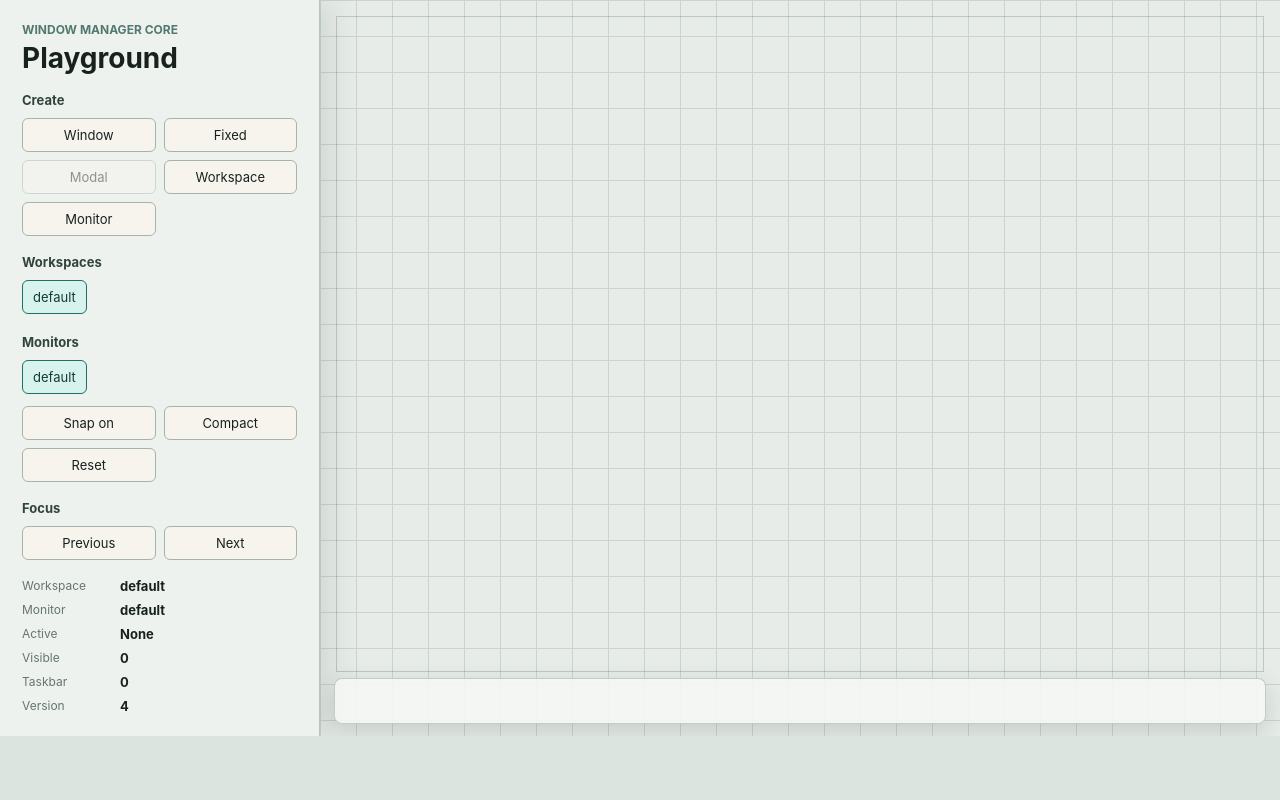
Test case: playground interactions › creates a window from the toolbar and reflects it in the taskbar
Click the button with aria-label "Create a new window" at (89, 135), box [22,118,156,152]
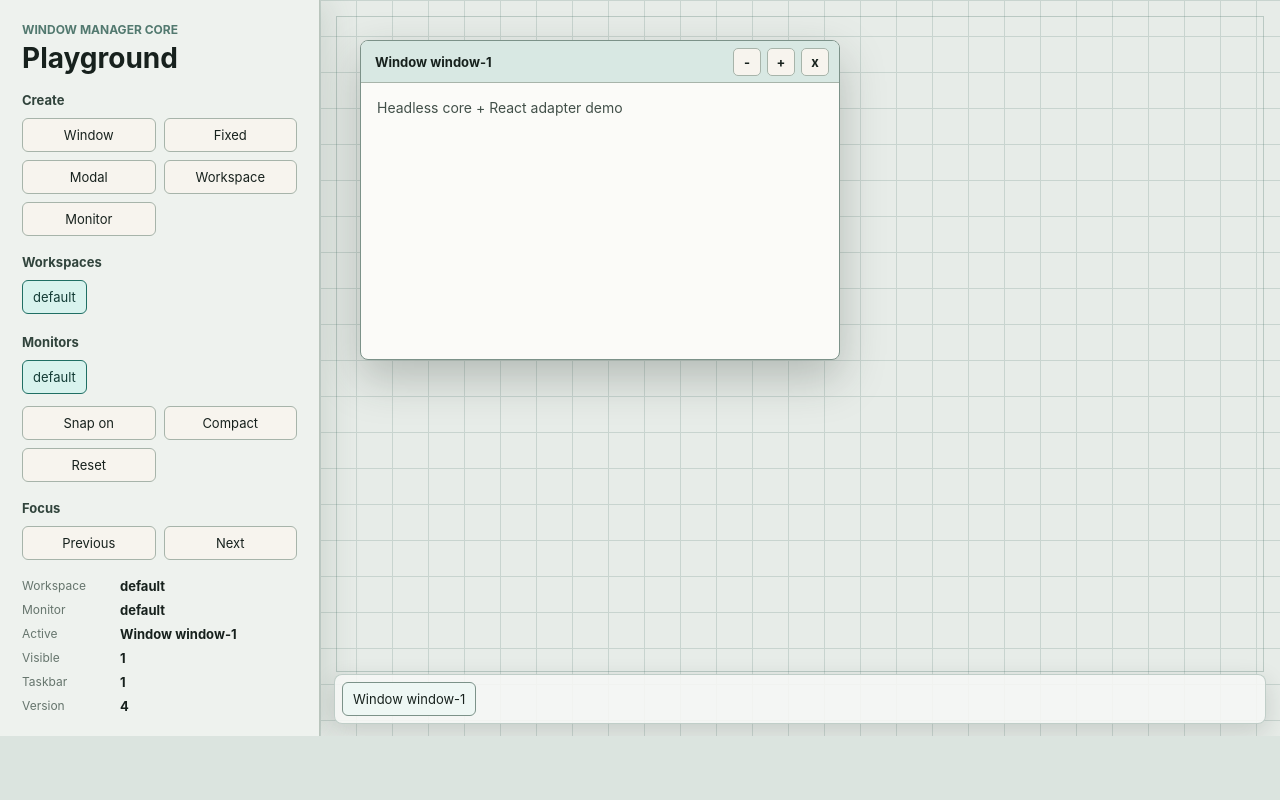
Expected: the text "Window window-1" is shown, [120,626,237,642]
